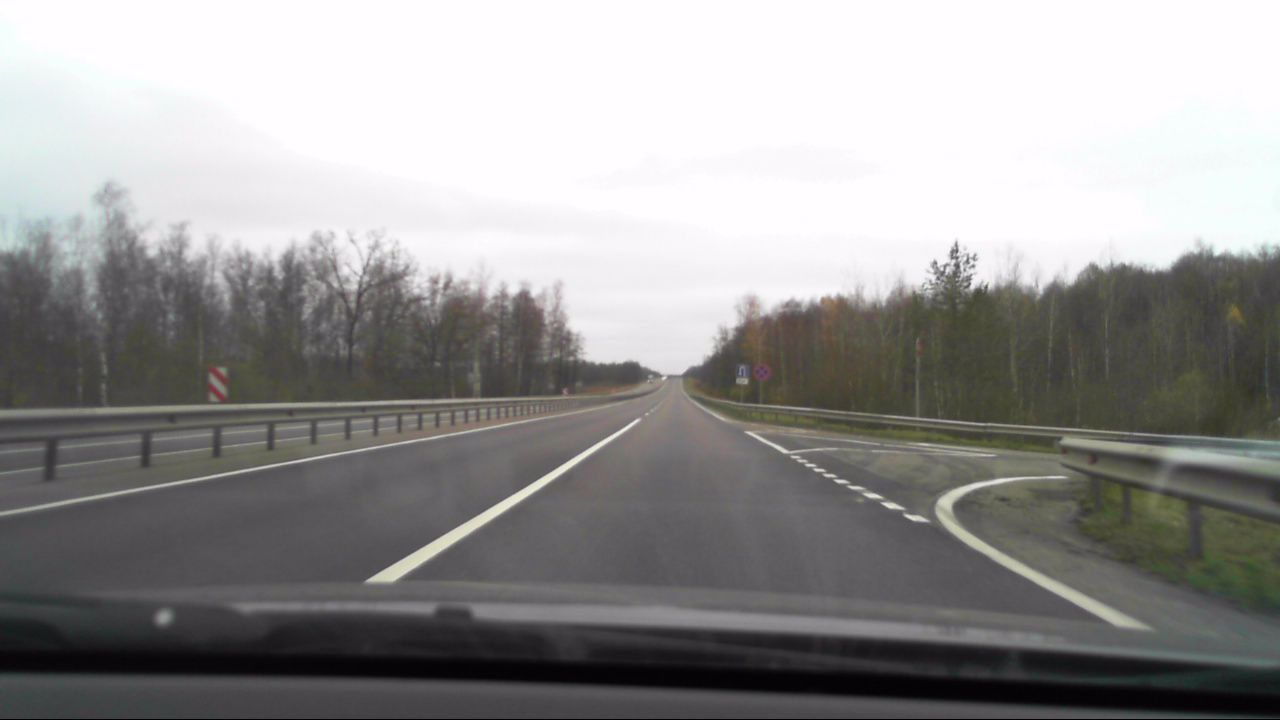No Parking: (752, 361, 773, 382)
